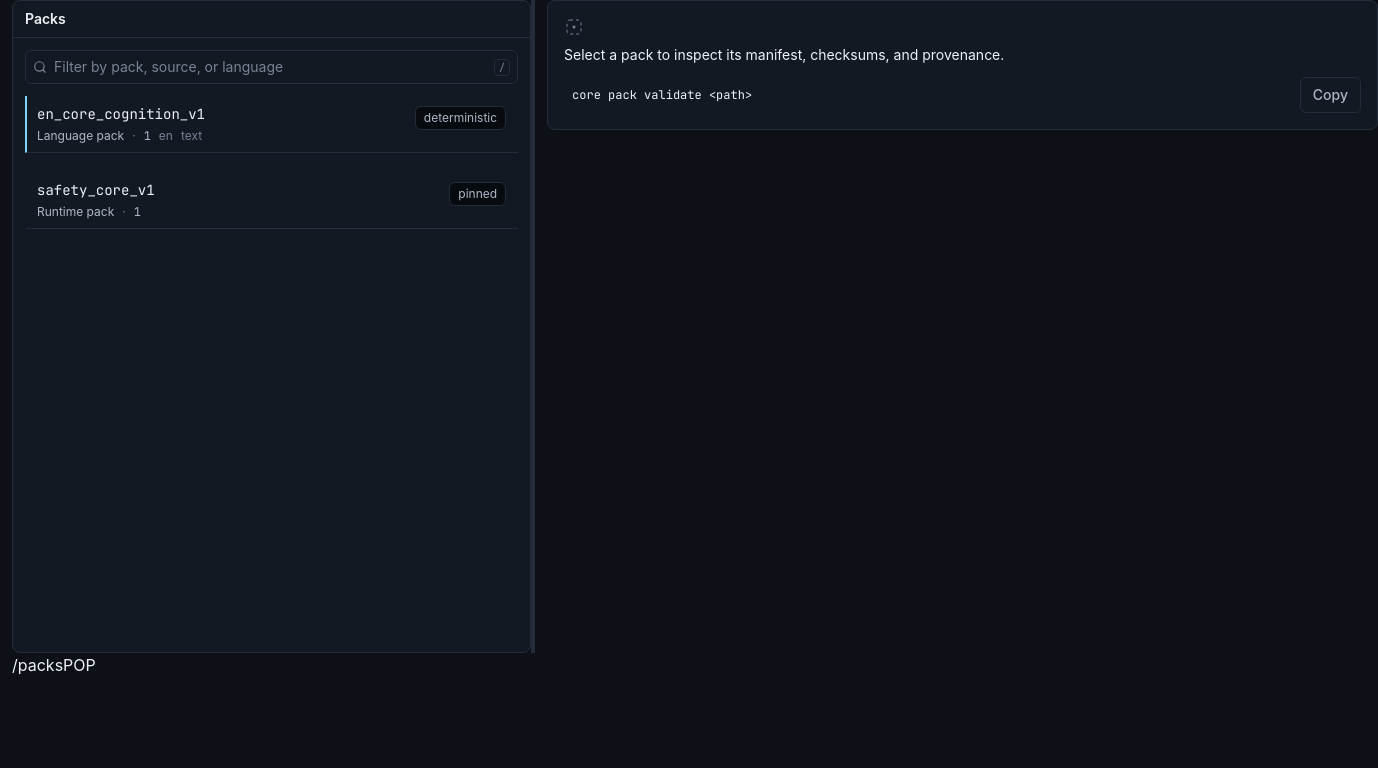
Test: PacksRoute › selecting a pack writes /packs/<packId> with replace and shows the manifest tree
Click the text "en_core_cognition_v1".
click(121, 114)  # box 37,104 -> 205,124
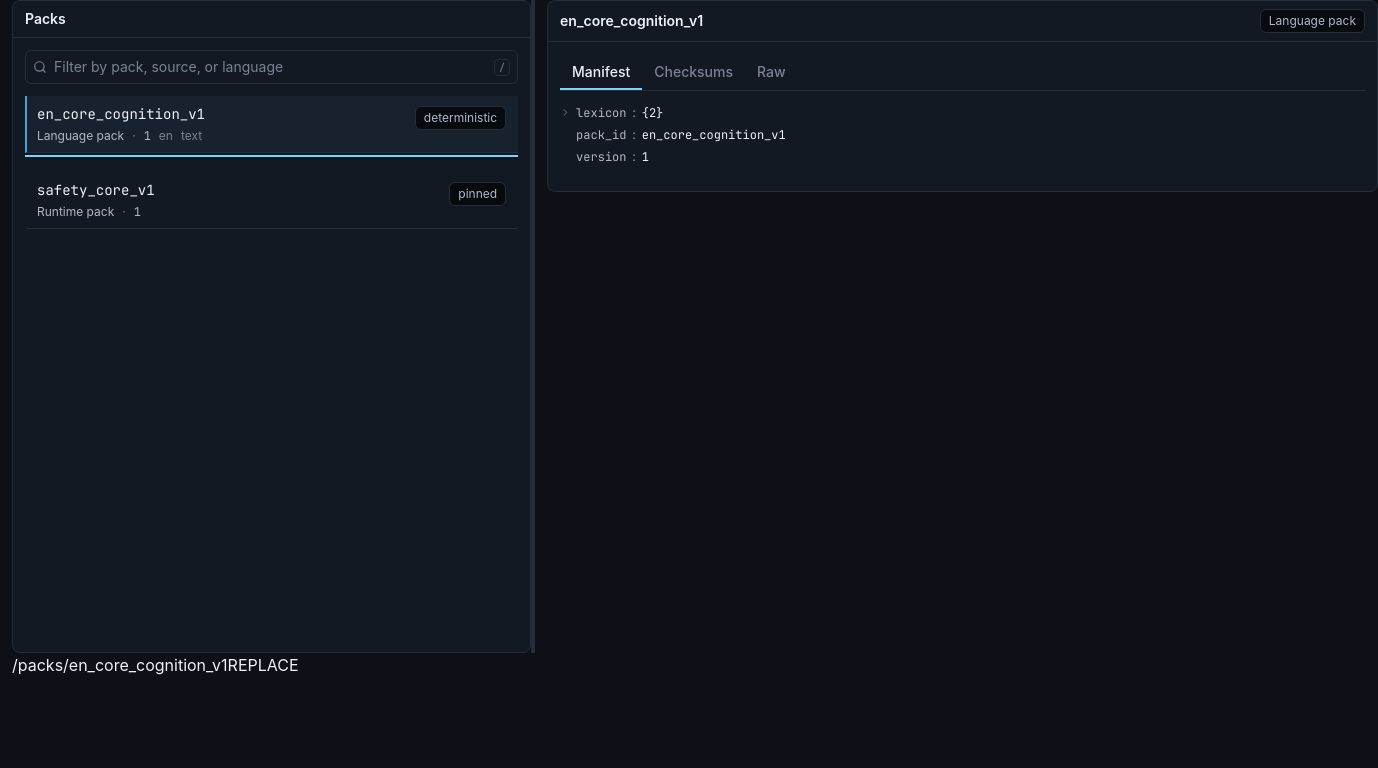
Check: the text with test id "location" reads "/packs/en_core_cognition_v1", box 12,655 -> 228,675
Check: the text with test id "nav-type" reads "REPLACE", box 228,655 -> 299,675
Check: the list "lexicon : {2} pack_id : en_core_cognition_v1 version : 1" is shown, box 560,105 -> 786,165
